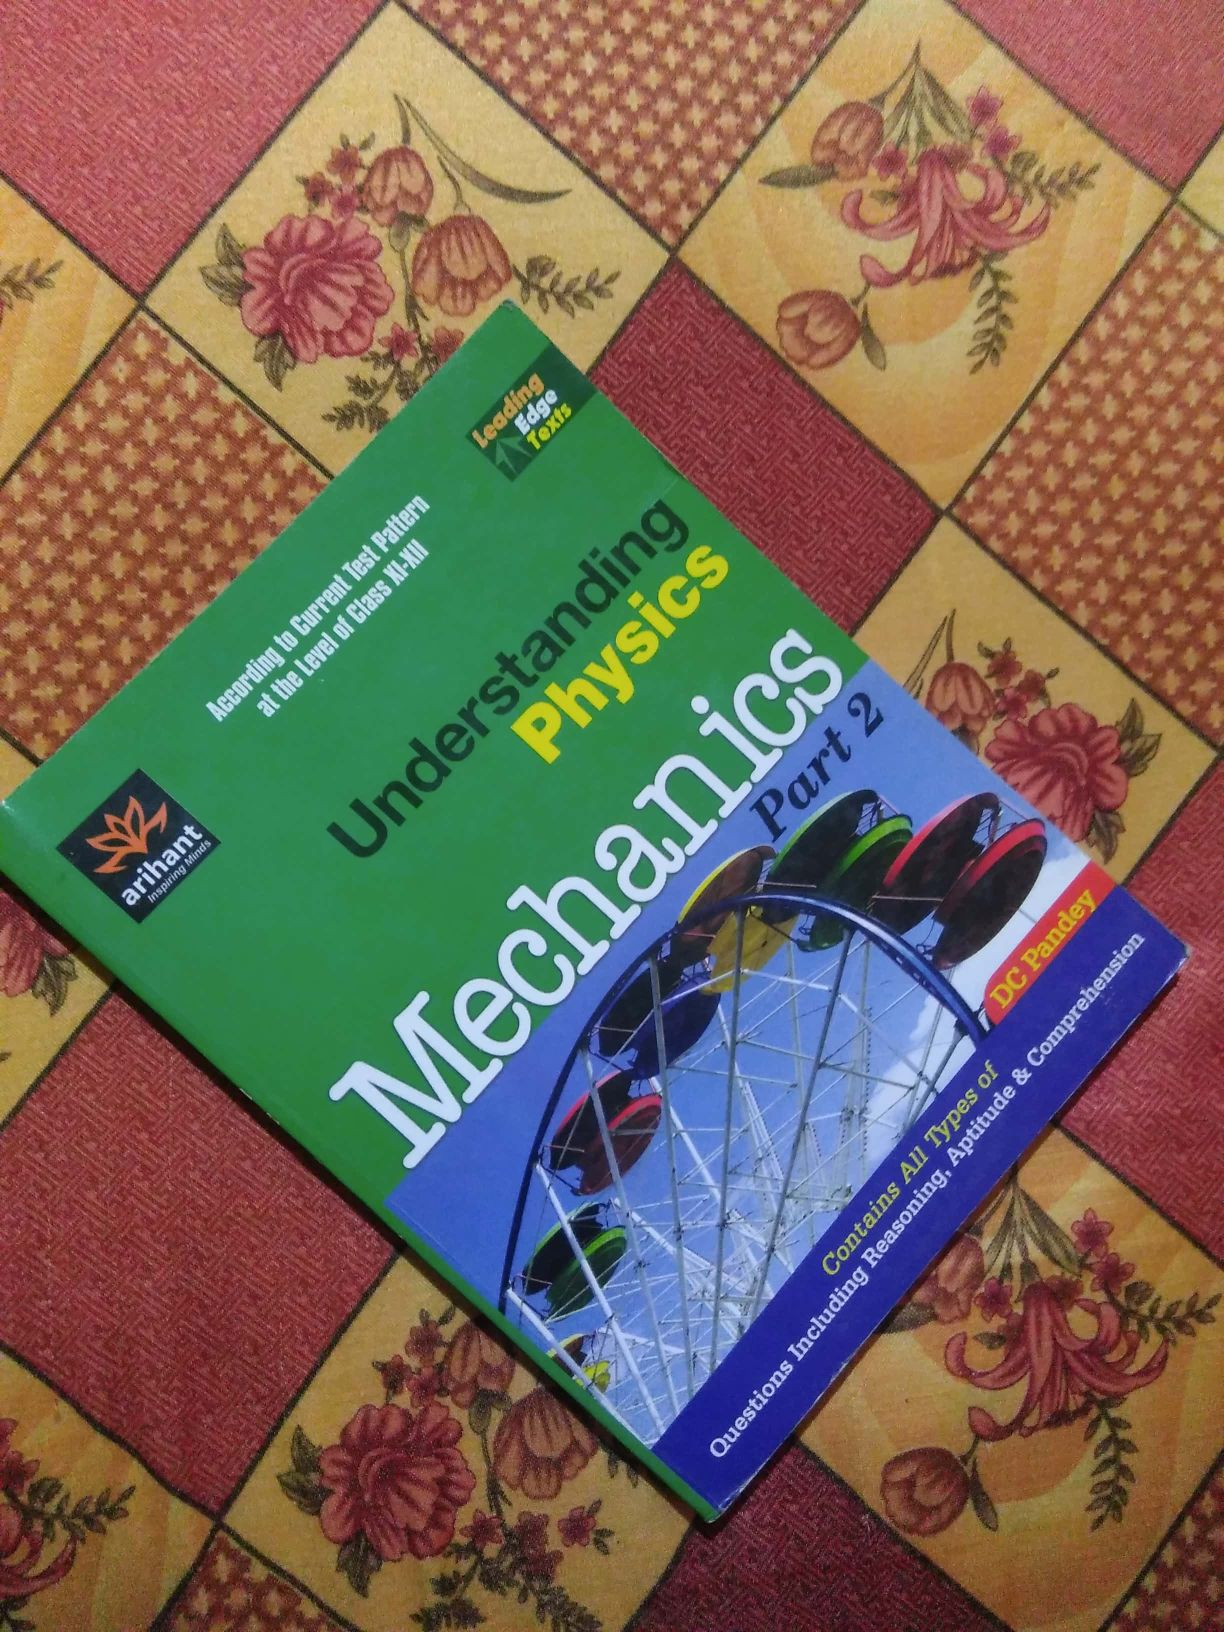mechanics: (60, 344, 1187, 1503)
